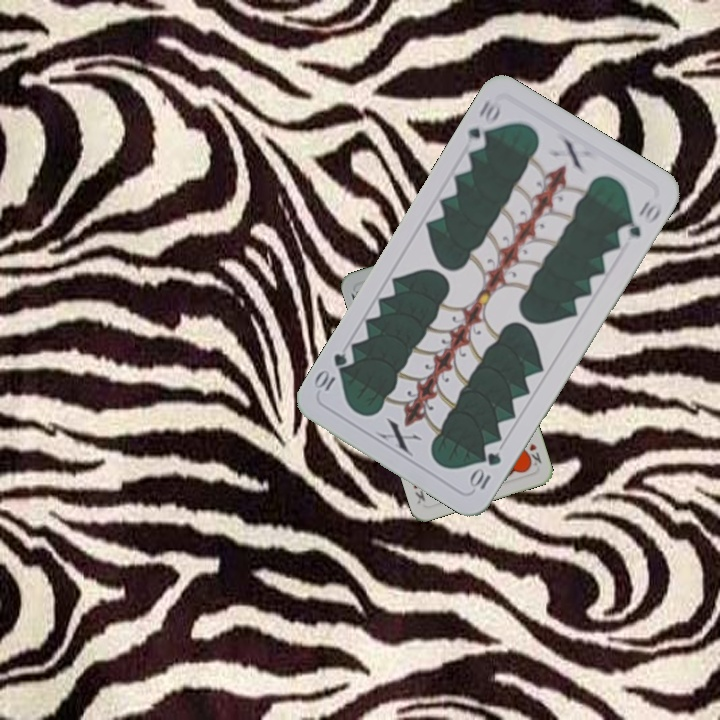G10: (461, 93, 505, 154), (466, 448, 504, 492)
HK: (521, 439, 544, 471)
